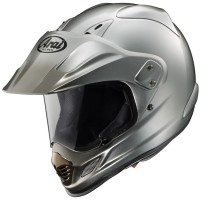with_helmet: (1, 1, 200, 197)
